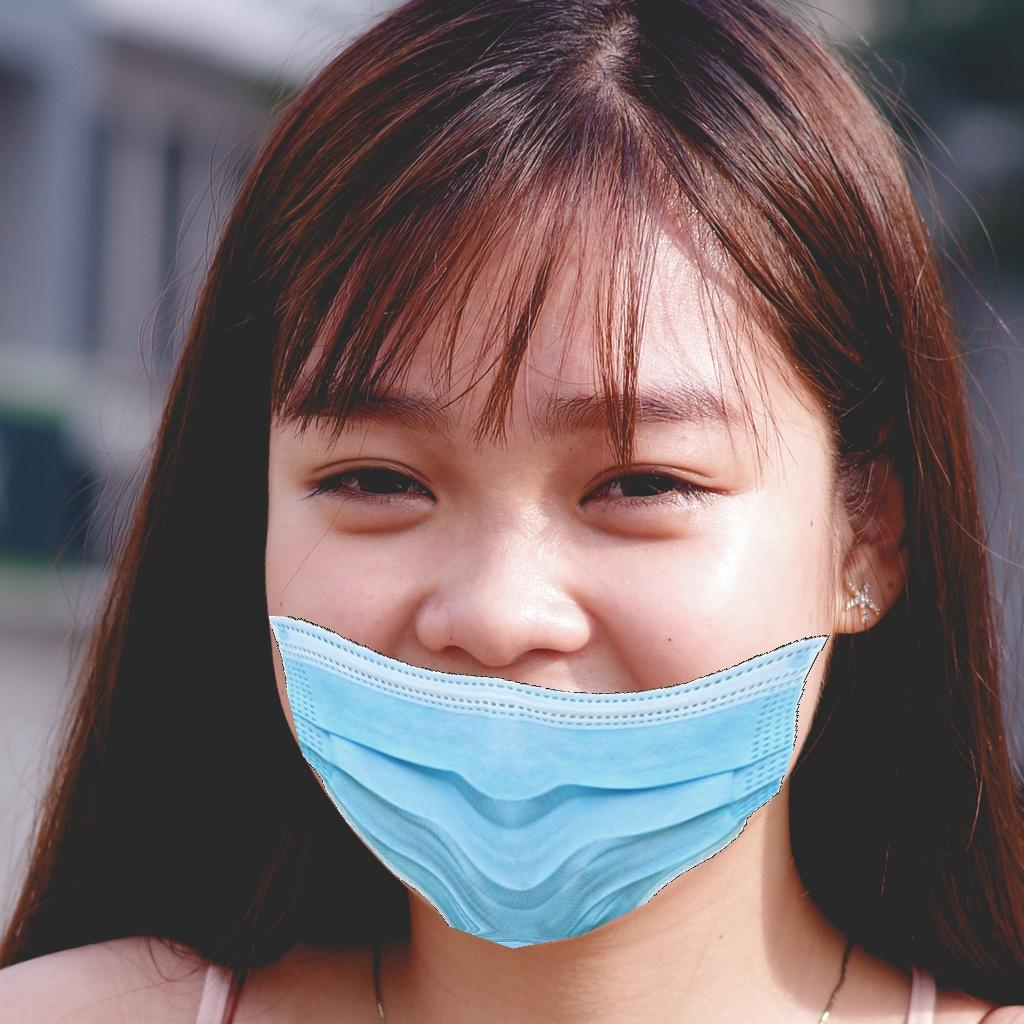Máscara Incorreta: (244, 316, 847, 934)
